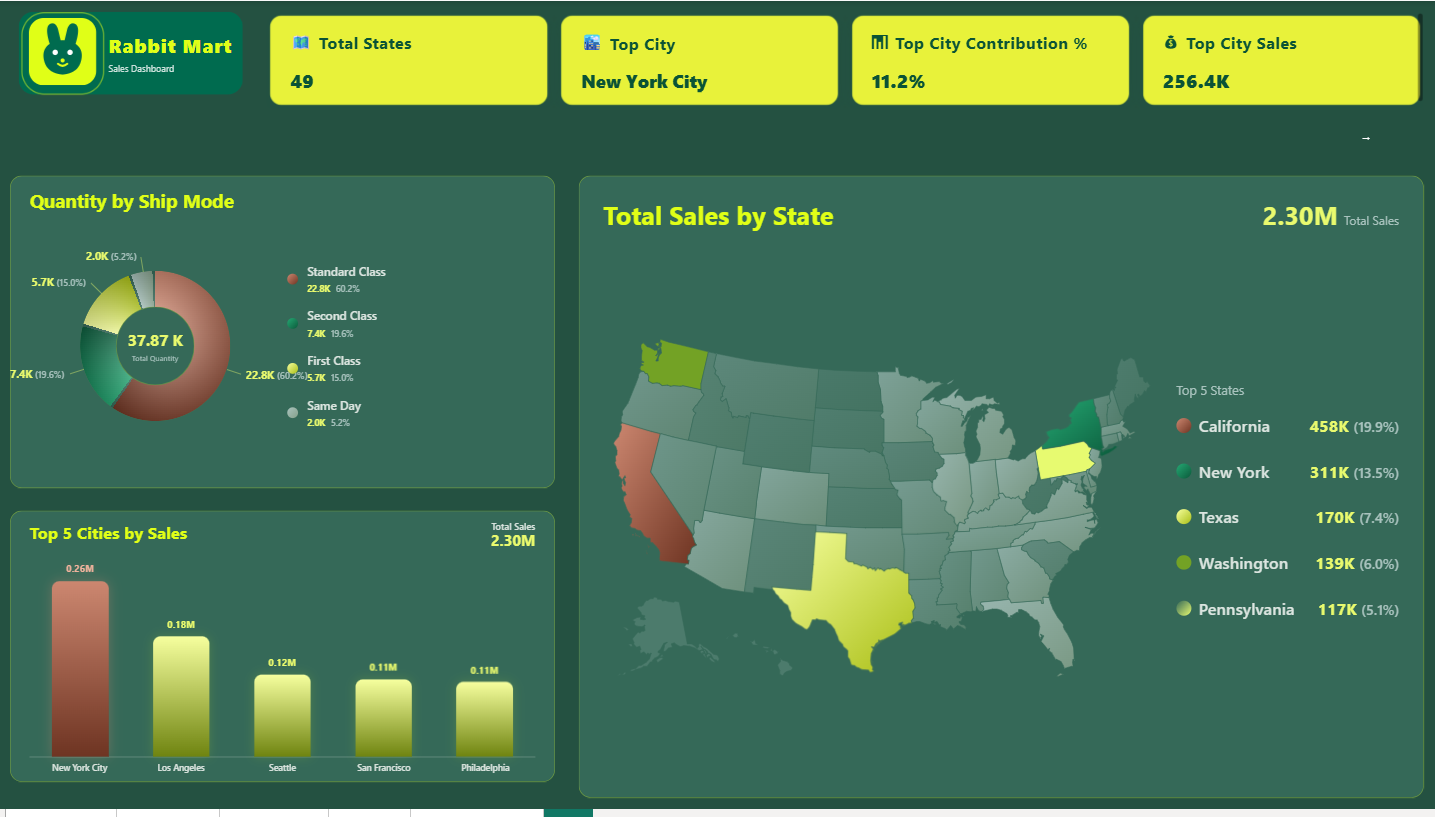

This screenshot's page, from the dashboard's own definition file:
{"tool":"powerbi","page":{"name":"Location","canvas":[1920,1080],"ordinal":2},"visuals":[{"type":"htmlContent443BE3AD55E043BF878BED274D3A6855","fields":{"content":["Category_Measure.Rabbit Logo"]},"box":[10.9,0,331.2,159.3],"z":0},{"type":"htmlContent443BE3AD55E043BF878BED274D3A6855","fields":{"content":["Category_Measure.City header"]},"box":[342,0,1578,159.3],"z":1000},{"type":"actionButton","box":[1764.4,159.3,124.9,45.2],"z":2000},{"type":"htmlContent443BE3AD55E043BF878BED274D3A6855","fields":{"content":["Category_Measure.State_Map"]},"box":[759.7,218.7,1160.5,861.6],"z":3000},{"type":"htmlContent443BE3AD55E043BF878BED274D3A6855","fields":{"content":["Category_Measure.City_Chart"]},"box":[0,666.2,759.7,392.4],"z":4000},{"type":"htmlContent443BE3AD55E043BF878BED274D3A6855","fields":{"content":["Category_Measure.City_ShipMode_Chart"]},"box":[0,218.7,759.7,447.5],"z":5000}]}

Visuals, with their boxes in screenshot pixels (x1, y1, x2, y2), scaled from the page's 1920x1080 canvas onto the 1435x817 screenshot:
htmlContent443BE3AD55E043BF878BED274D3A6855 - Category_Measure.Rabbit Logo: pyautogui.locateOnScreen(8, 0, 256, 121)
htmlContent443BE3AD55E043BF878BED274D3A6855 - Category_Measure.City header: pyautogui.locateOnScreen(256, 0, 1434, 121)
actionButton: pyautogui.locateOnScreen(1319, 121, 1412, 155)
htmlContent443BE3AD55E043BF878BED274D3A6855 - Category_Measure.State_Map: pyautogui.locateOnScreen(568, 165, 1434, 816)
htmlContent443BE3AD55E043BF878BED274D3A6855 - Category_Measure.City_Chart: pyautogui.locateOnScreen(0, 504, 568, 801)
htmlContent443BE3AD55E043BF878BED274D3A6855 - Category_Measure.City_ShipMode_Chart: pyautogui.locateOnScreen(0, 165, 568, 504)
